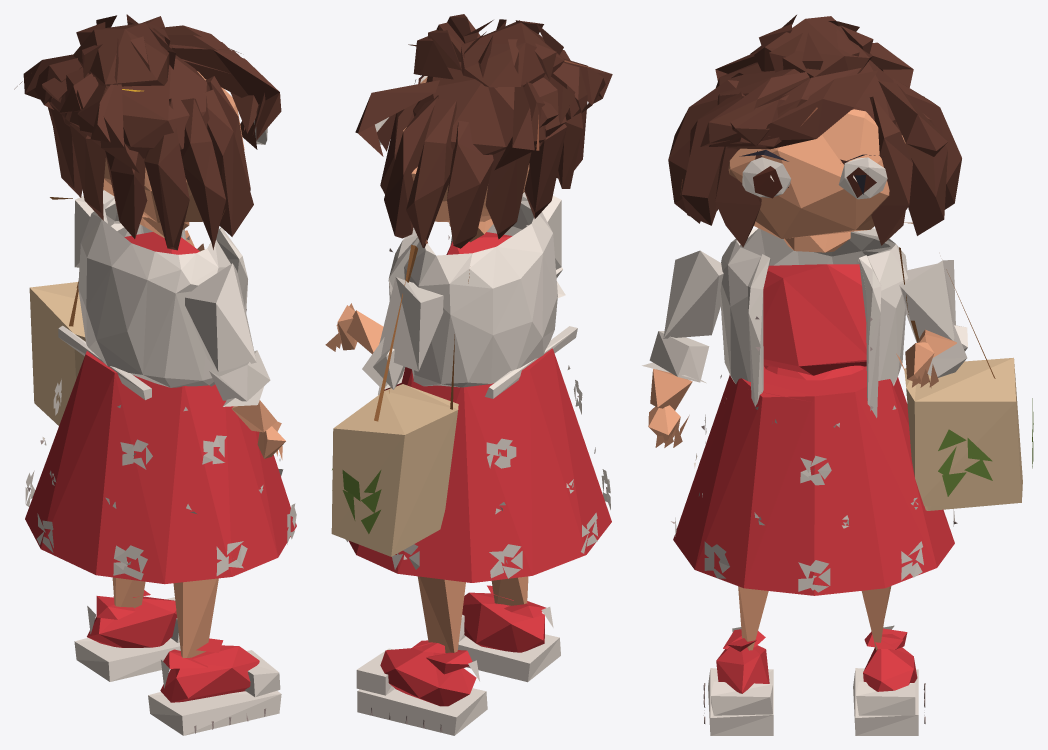
File: npc.civilian-woman-a.lod2.glb
The picture shows the model from 3 angles, left to right: view 1: azimuth 30°, elevation 25°; view 2: azimuth 150°, elevation 25°; view 3: azimuth 270°, elevation 25°; orthographic projection.
Visible parts, largest first — view 1: hip, head, torso, footR, footL, armR, foreArmR, shinR, armL, shinL, handR; view 2: head, torso, hip, footL, footR, armL, shinL, foreArmL, shinR, armR, handL; view 3: head, hip, torso, footL, footR, armR, armL, foreArmR, foreArmL, shinR, handL, handR (+1 smaller).
Boxes of the visible parts, x1=… form: hip: x1=25, y1=351, x2=296, y2=584; head: x1=14, y1=14, x2=281, y2=250; torso: x1=29, y1=197, x2=247, y2=425; footR: x1=148, y1=638, x2=281, y2=735; footL: x1=74, y1=590, x2=180, y2=681; armR: x1=185, y1=263, x2=256, y2=372; foreArmR: x1=209, y1=350, x2=277, y2=432; shinR: x1=173, y1=578, x2=218, y2=657; armL: x1=74, y1=190, x2=127, y2=267; shinL: x1=112, y1=577, x2=145, y2=608; handR: x1=257, y1=421, x2=285, y2=459; head: x1=355, y1=14, x2=612, y2=248; torso: x1=331, y1=196, x2=577, y2=556; hip: x1=345, y1=348, x2=611, y2=582; footL: x1=356, y1=640, x2=487, y2=735; footR: x1=458, y1=585, x2=560, y2=682; armL: x1=379, y1=277, x2=443, y2=371; shinL: x1=417, y1=576, x2=465, y2=652; foreArmL: x1=347, y1=310, x2=405, y2=389; shinR: x1=491, y1=576, x2=528, y2=605; armR: x1=522, y1=192, x2=561, y2=269; handL: x1=325, y1=303, x2=357, y2=351; head: x1=668, y1=15, x2=961, y2=252; hip: x1=671, y1=365, x2=957, y2=595; torso: x1=720, y1=222, x2=1033, y2=510; footL: x1=853, y1=625, x2=925, y2=735; footR: x1=703, y1=627, x2=773, y2=735; armR: x1=663, y1=250, x2=723, y2=338; armL: x1=899, y1=260, x2=955, y2=342; foreArmR: x1=642, y1=331, x2=709, y2=410; foreArmL: x1=917, y1=321, x2=967, y2=377; shinR: x1=738, y1=586, x2=768, y2=650; handL: x1=896, y1=342, x2=938, y2=387; handR: x1=648, y1=405, x2=689, y2=447.
Size of the model in its own units: 0.6473 by 1.79 by 0.9562.
